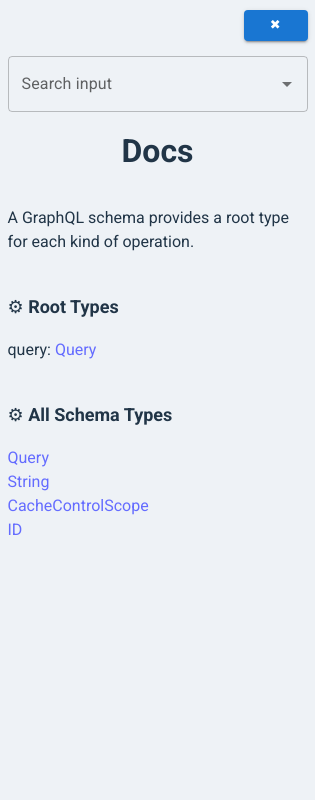
Scenario: SchemaContainer test › should go to the previous page when clicking on a link in the navigation
Check: the heading "Docs" is shown, box [122,132,194,170]
Click the link "CacheControlScope". click: (78, 505)
box: [8,496,149,515]
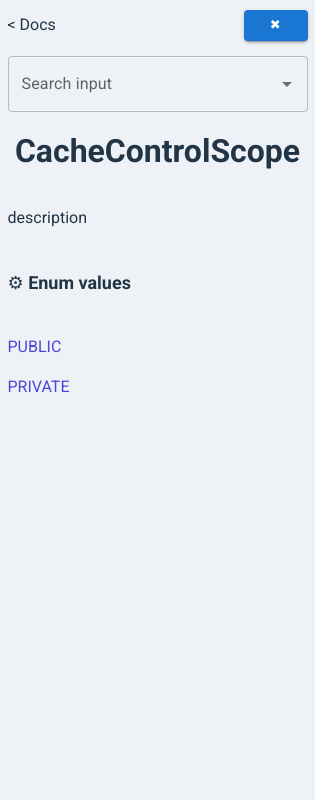
Click the link "Docs". click: (38, 24)
box: [20,15,56,34]
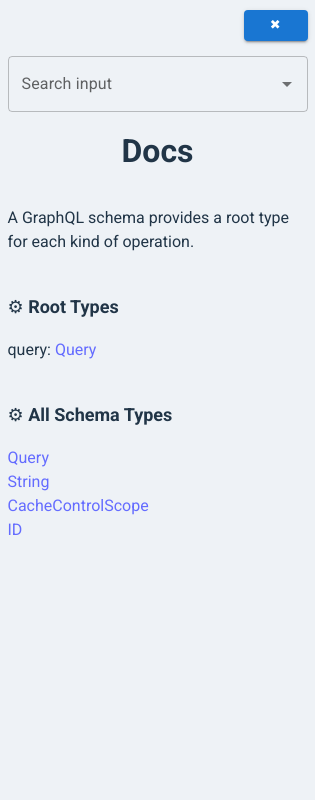
Check: the heading "Docs" is shown, box [122,132,194,170]
